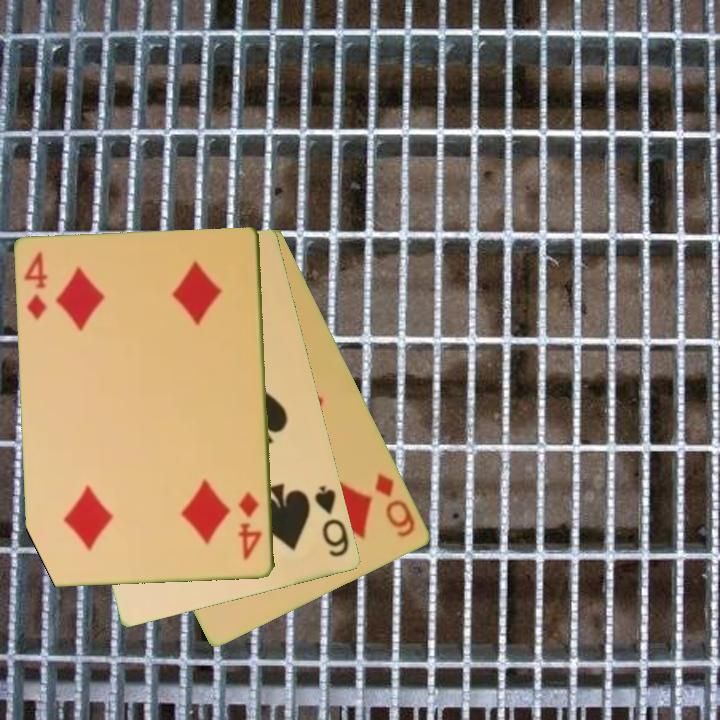4d: (235, 488, 265, 564), (21, 249, 51, 323)
6d: (372, 469, 419, 541)
6s: (311, 482, 353, 560)
